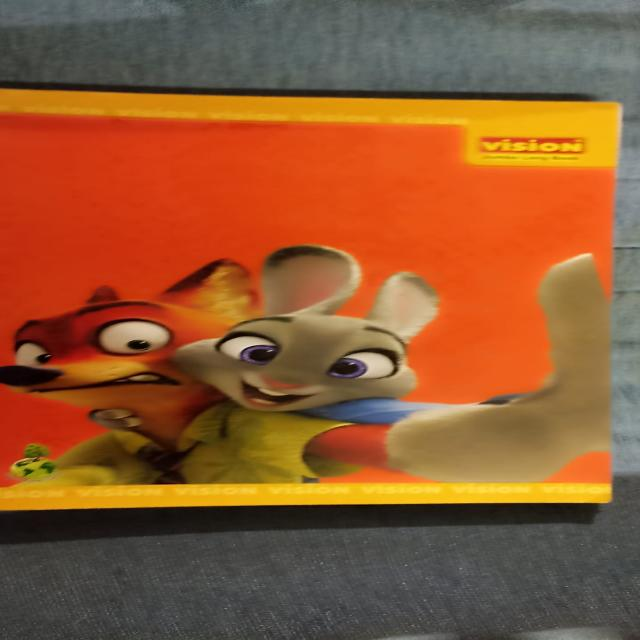book: (0, 78, 611, 512)
